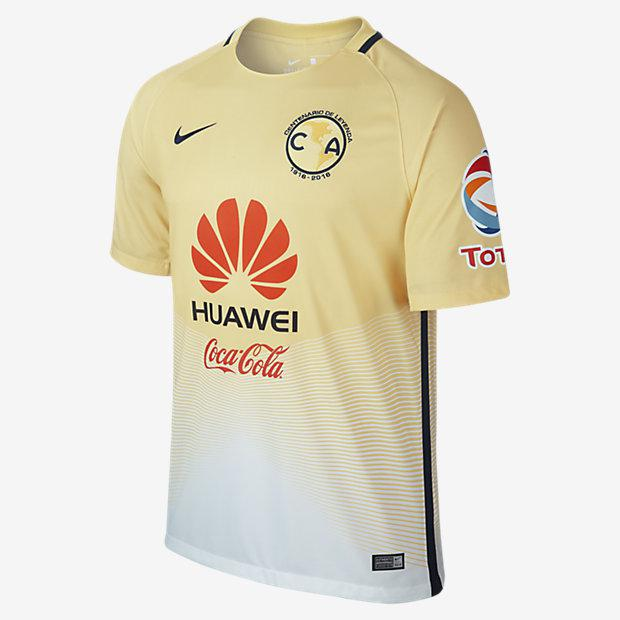teeshirt: (83, 14, 531, 619)
